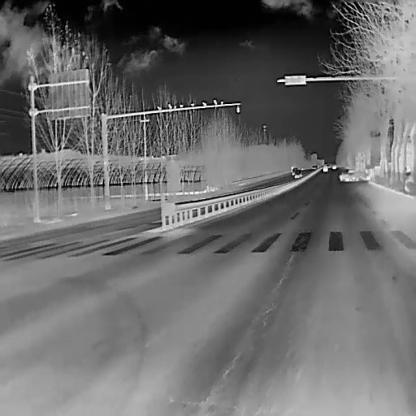car: (337, 168, 359, 182), (293, 168, 301, 178), (290, 167, 298, 176), (323, 164, 328, 172), (331, 163, 336, 169), (312, 163, 316, 169)
